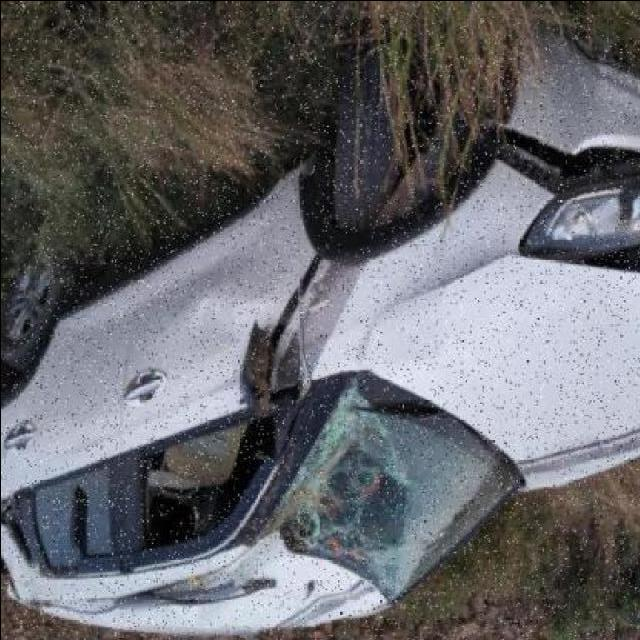Front-Windscreen-Damage: (271, 388, 519, 584)
Headlight-Damage: (506, 160, 640, 292)
doorouter-dent: (123, 180, 302, 446)
roof-dent: (0, 543, 373, 637)
